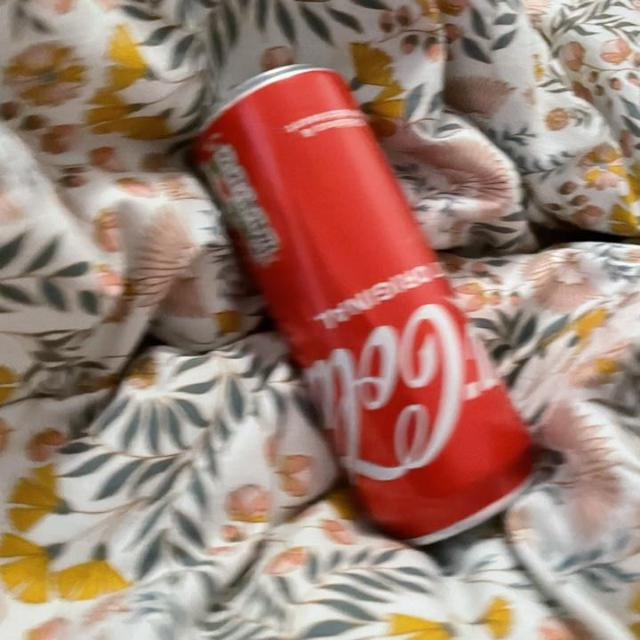can: (187, 61, 547, 549)
